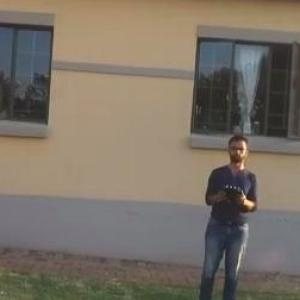follow: (187, 120, 263, 299)
